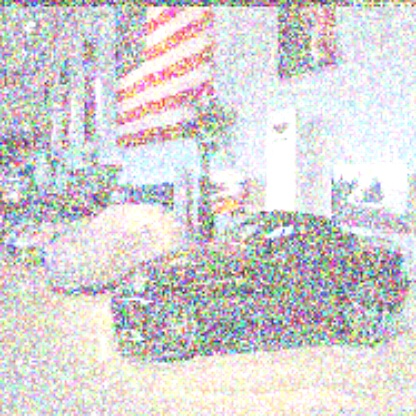Vehicle: (110, 210, 410, 364)
